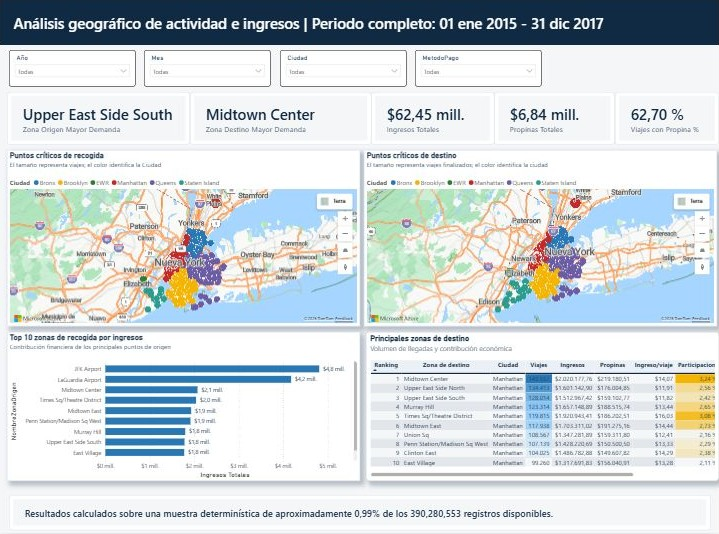

This screenshot's page, from the dashboard's own definition file:
{"tool":"powerbi","page":{"name":"04 Análisis Geográfico","canvas":[1550,1150],"ordinal":3},"visuals":[{"type":"shape","box":[0,0,1550,97.1],"z":0},{"type":"slicer","fields":{"Values":["DimFecha.Año"]},"box":[20,108.6,272.9,78.6],"z":1000},{"type":"slicer","fields":{"Values":["DimFecha.Mes"]},"box":[311.4,108.6,272.9,78.6],"z":2000},{"type":"cardVisual","fields":{"Data":["MedidasDAX.Titulo Analisis Geografico"]},"box":[0,0,1468.6,97.1],"z":3000},{"type":"cardVisual","fields":{"Data":["MedidasDAX.Nota Metodologica"]},"box":[20,1067.1,1512.9,75.7],"z":4000},{"type":"slicer","fields":{"Values":["DimMetodoPago.MetodoPago"]},"box":[894.3,108.6,272.9,78.6],"z":5000},{"type":"cardVisual","fields":{"Data":["MedidasDAX.Zona Origen Mayor Demanda"]},"box":[14.3,198.6,394.3,114.3],"z":6000},{"type":"cardVisual","fields":{"Data":["MedidasDAX.Viajes con Propina %"]},"box":[1325.7,198.6,224.3,114.3],"z":7000},{"type":"cardVisual","fields":{"Data":["MedidasDAX.Propinas Totales"]},"box":[1065.7,198.6,260,114.3],"z":8000},{"type":"cardVisual","fields":{"Data":["MedidasDAX.Ingresos Totales"]},"box":[800,198.6,265.7,114.3],"z":9000},{"type":"cardVisual","fields":{"Data":["MedidasDAX.Zona Destino Mayor Demanda"]},"box":[408.6,198.6,391.4,114.3],"z":10000},{"type":"azureMap","title":"Puntos críticos de recogida","fields":{"Category":["DimZonaOrigen.UbicacionOrigen"],"Series":["DimZonaOrigen.BoroughOrigen"],"Size":["MedidasDAX.Total Viajes"]},"box":[14.3,322.9,761.4,380],"z":11000},{"type":"azureMap","title":"Puntos críticos de destino","fields":{"Category":["DimZonaDestino.UbicacionDestino"],"Series":["DimZonaDestino.BoroughDestino"],"Size":["MedidasDAX.Total Viajes"]},"box":[785.7,322.9,761.4,380],"z":12000},{"type":"slicer","fields":{"Values":["DimZonaOrigen.BoroughOrigen"]},"box":[604.3,108.6,272.9,78.6],"z":13000},{"type":"clusteredBarChart","title":"Top 10 zonas de recogida por ingresos","fields":{"Category":["DimZonaOrigen.NombreZonaOrigen"],"Y":["MedidasDAX.Ingresos Totales"]},"box":[15.7,715.7,761,321],"z":14000},{"type":"tableEx","title":"Principales zonas de destino","fields":{"Values":["MedidasDAX.Ranking Zona Destino por Viajes","DimZonaDestino.NombreZonaDestino","DimZonaDestino.BoroughDestino","MedidasDAX.Total Viajes","MedidasDAX.Ingresos Totales","MedidasDAX.Propinas Totales","MedidasDAX.Ingreso Promedio por Viaje","MedidasDAX.Participacion Ingresos Zona Destino %","MedidasDAX.Distancia Promedio por Viaje","MedidasDAX.Duracion Promedio Minutos"]},"box":[789,716,761.4,321.4],"z":15000}]}

Visuals, with their boxes in screenshot pixels (x1, y1, x2, y2), scaled from the page's 1550x1150 canvas onto the 719x534 screenshot:
shape: [0, 0, 718, 45]
slicer - DimFecha.Año: [9, 50, 136, 87]
slicer - DimFecha.Mes: [144, 50, 271, 87]
cardVisual - MedidasDAX.Titulo Analisis Geografico: [0, 0, 681, 45]
cardVisual - MedidasDAX.Nota Metodologica: [9, 496, 711, 531]
slicer - DimMetodoPago.MetodoPago: [415, 50, 541, 87]
cardVisual - MedidasDAX.Zona Origen Mayor Demanda: [7, 92, 190, 145]
cardVisual - MedidasDAX.Viajes con Propina %: [615, 92, 718, 145]
cardVisual - MedidasDAX.Propinas Totales: [494, 92, 615, 145]
cardVisual - MedidasDAX.Ingresos Totales: [371, 92, 494, 145]
cardVisual - MedidasDAX.Zona Destino Mayor Demanda: [190, 92, 371, 145]
"Puntos críticos de recogida" azureMap: [7, 150, 360, 326]
"Puntos críticos de destino" azureMap: [364, 150, 718, 326]
slicer - DimZonaOrigen.BoroughOrigen: [280, 50, 407, 87]
"Top 10 zonas de recogida por ingresos" clusteredBarChart: [7, 332, 360, 481]
"Principales zonas de destino" tableEx: [366, 332, 718, 482]
